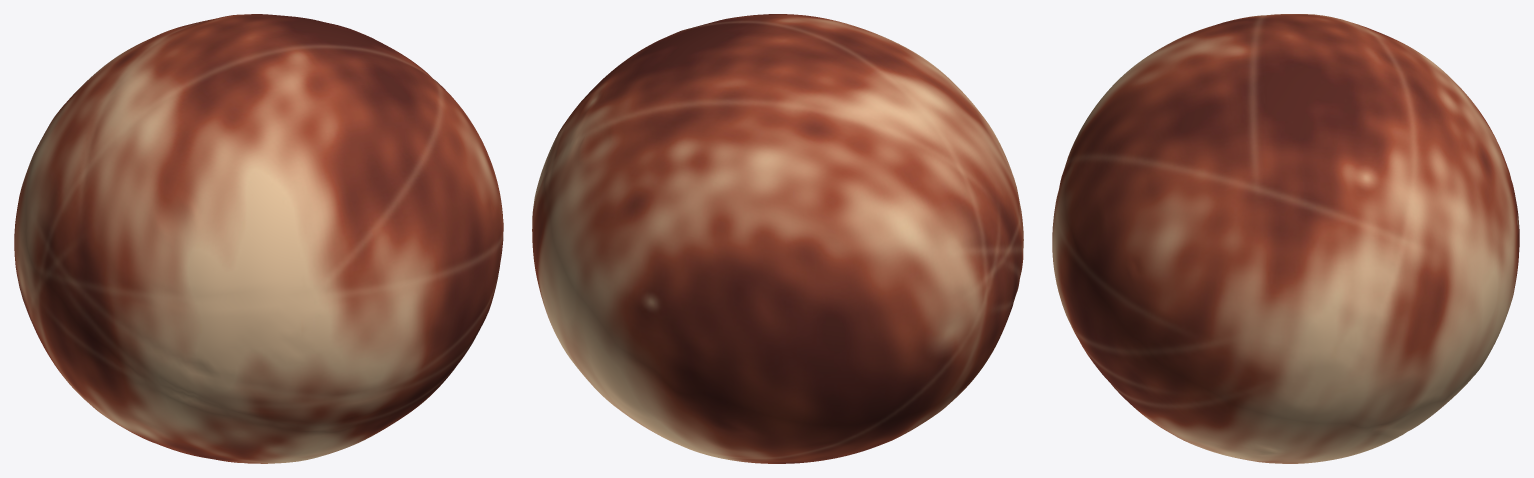
File: delta_003.glb
3 views of the same model, side by side, from view 1: azimuth 30°, elevation 25°; view 2: azimuth 150°, elevation 25°; view 3: azimuth 270°, elevation 25° (orthographic).
Visible parts, largest first — view 1: delta_003_body; view 2: delta_003_body; view 3: delta_003_body.
Part boxes in pixels (box(x1,y1,x2,y2)): delta_003_body: box(14, 14, 503, 463); delta_003_body: box(532, 14, 1023, 463); delta_003_body: box(1052, 14, 1519, 463).
Bounding box in the file's own units: 2.08 × 1.86 × 1.98.
Materials: 1 (1 with a texture image).
